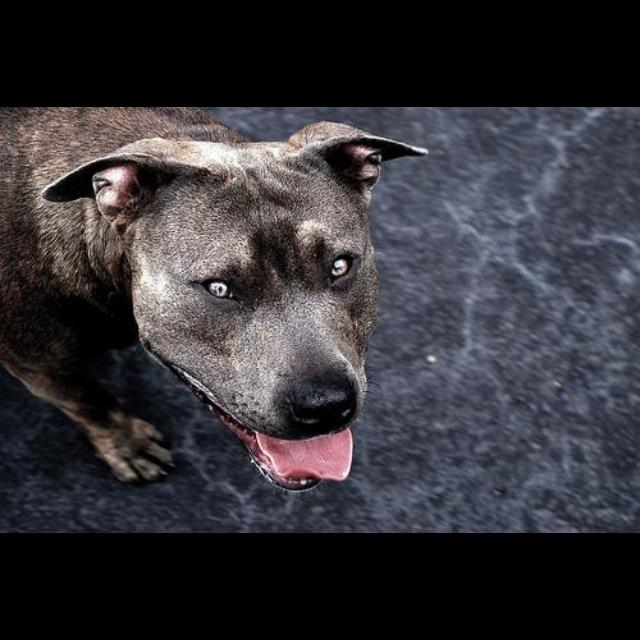amstaff: (1, 108, 429, 498)
